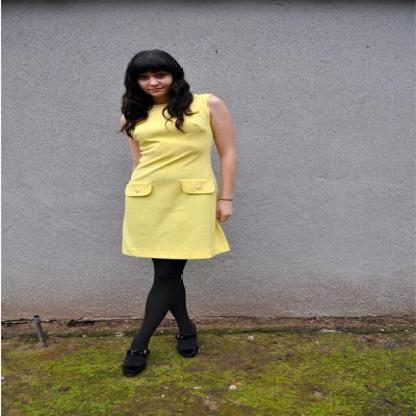dress: (122, 94, 228, 258)
shoe: (121, 324, 200, 374)
